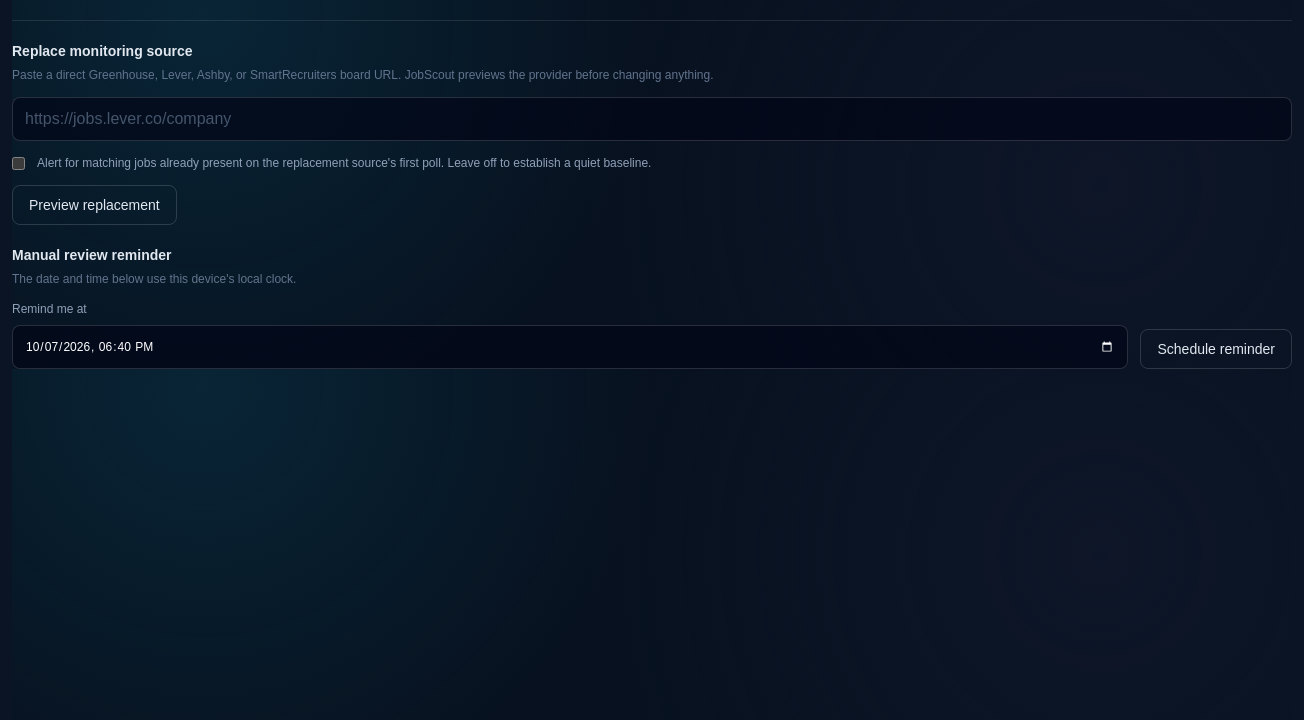
monitoring recovery › converts a device-local reminder value into an absolute instant
Replace the text in the field labelled "Remind me at" with "2026-08-30T09:30" at x=570, y=347, box [12,325,1128,369]
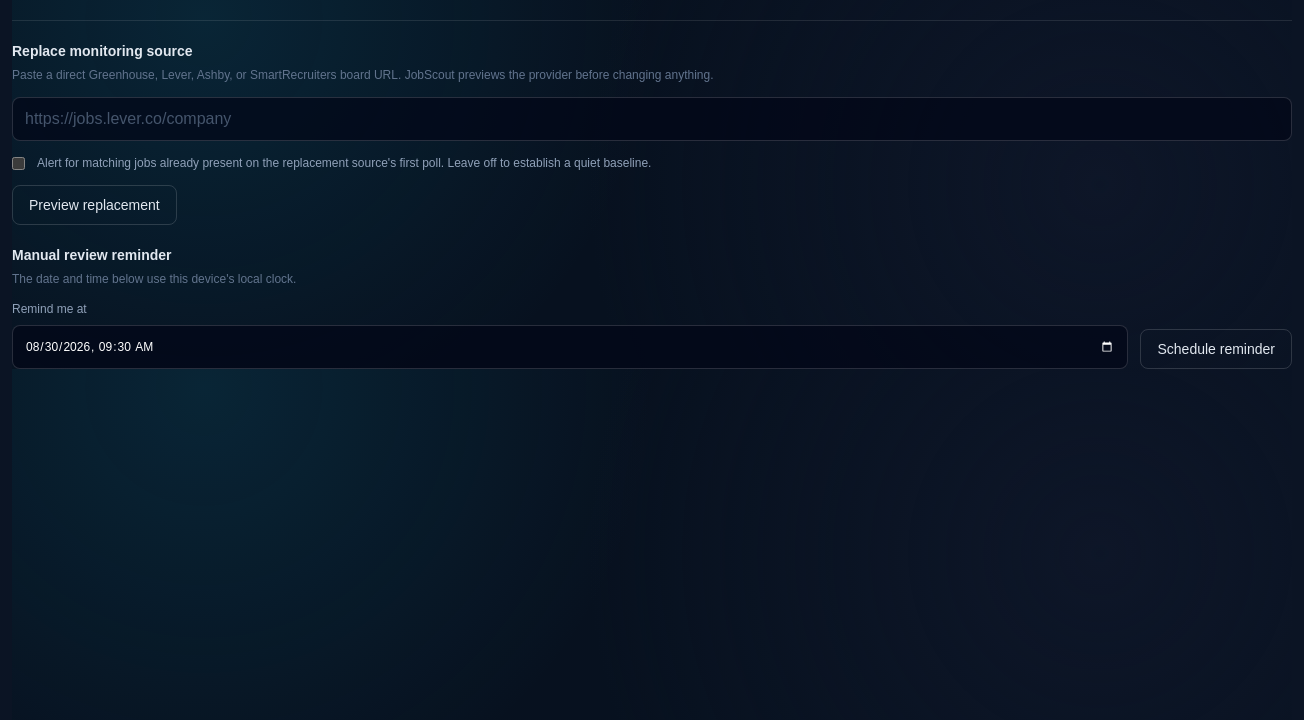
Click the button "Schedule reminder" at x=1216, y=349, box [1140,329,1292,369]
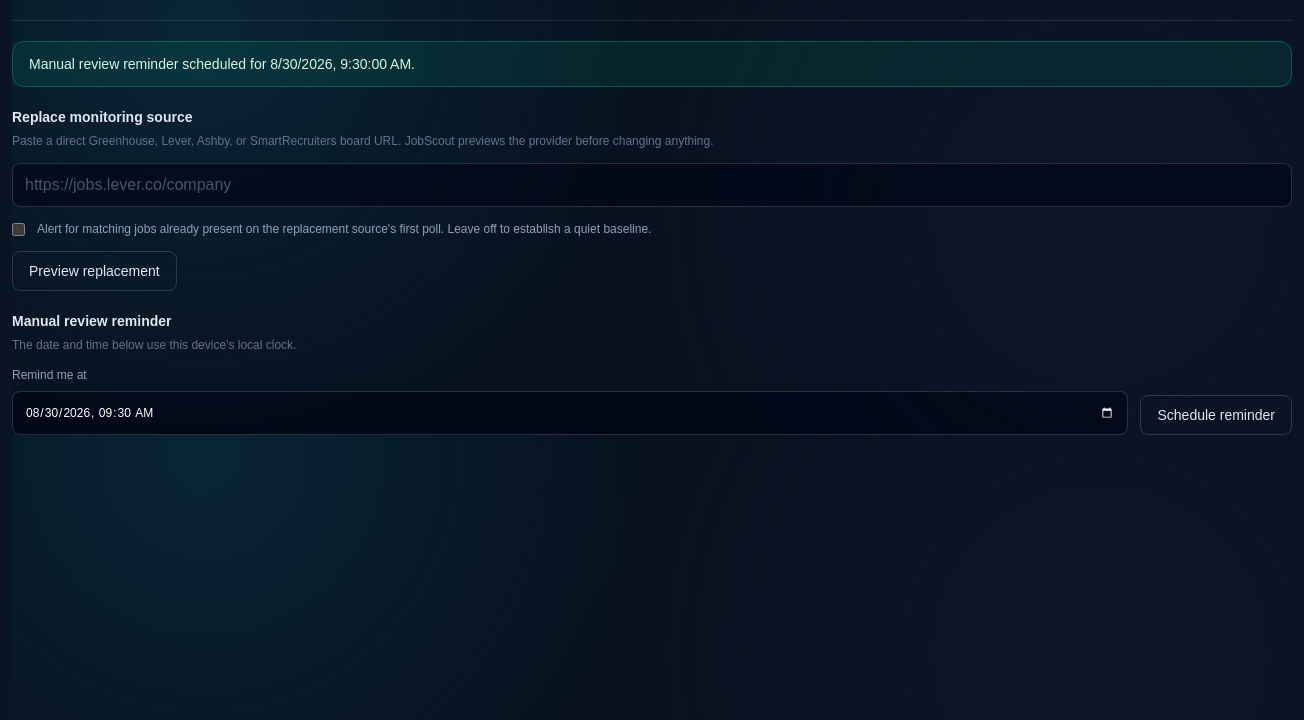
expect the text "Manual review reminder scheduled for 8/30/2026, 9:30:00 AM." is shown: met, box [12,41,1292,87]
